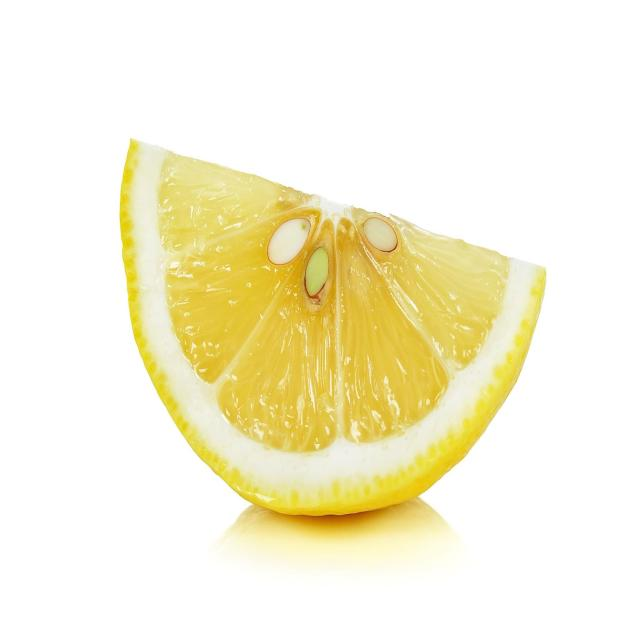lemon: (115, 128, 552, 526)
